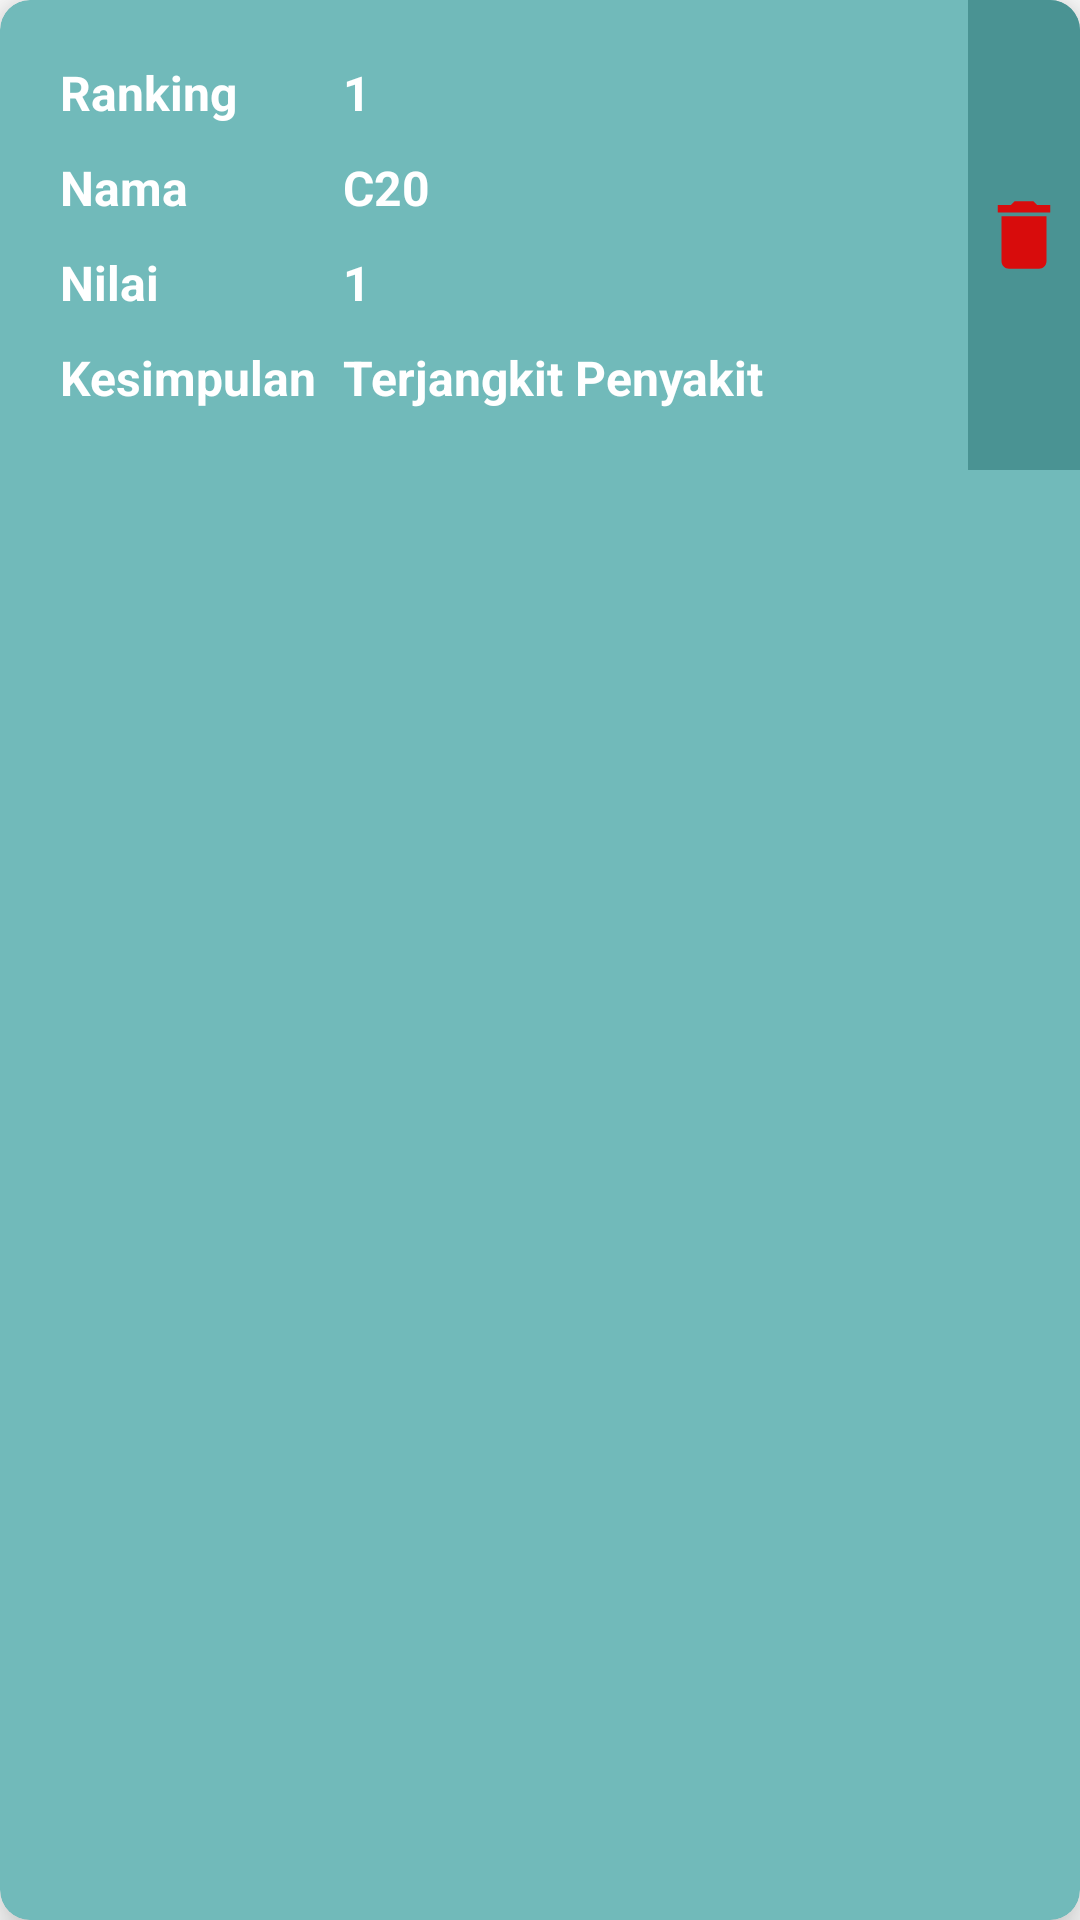

Locate icon controls on the screen. Image size 1080×1920, boxes as (x1, y1, x2, y2).
delete: (997, 201, 1051, 269)
